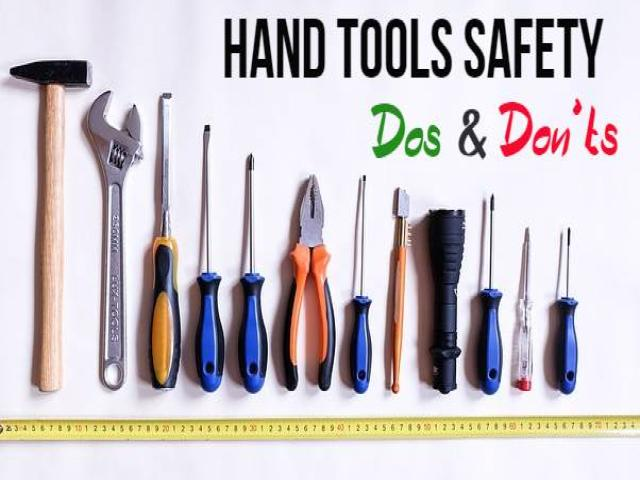Adjustable spanner: (88, 91, 142, 389)
Hammer: (10, 61, 91, 392)
Pliers: (284, 174, 335, 390)
Screwdriver: (195, 123, 224, 391), (239, 154, 268, 393), (479, 194, 502, 394), (351, 176, 371, 394), (556, 226, 578, 393), (511, 228, 533, 390)
